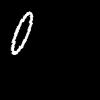chain: (11, 12, 32, 54)
